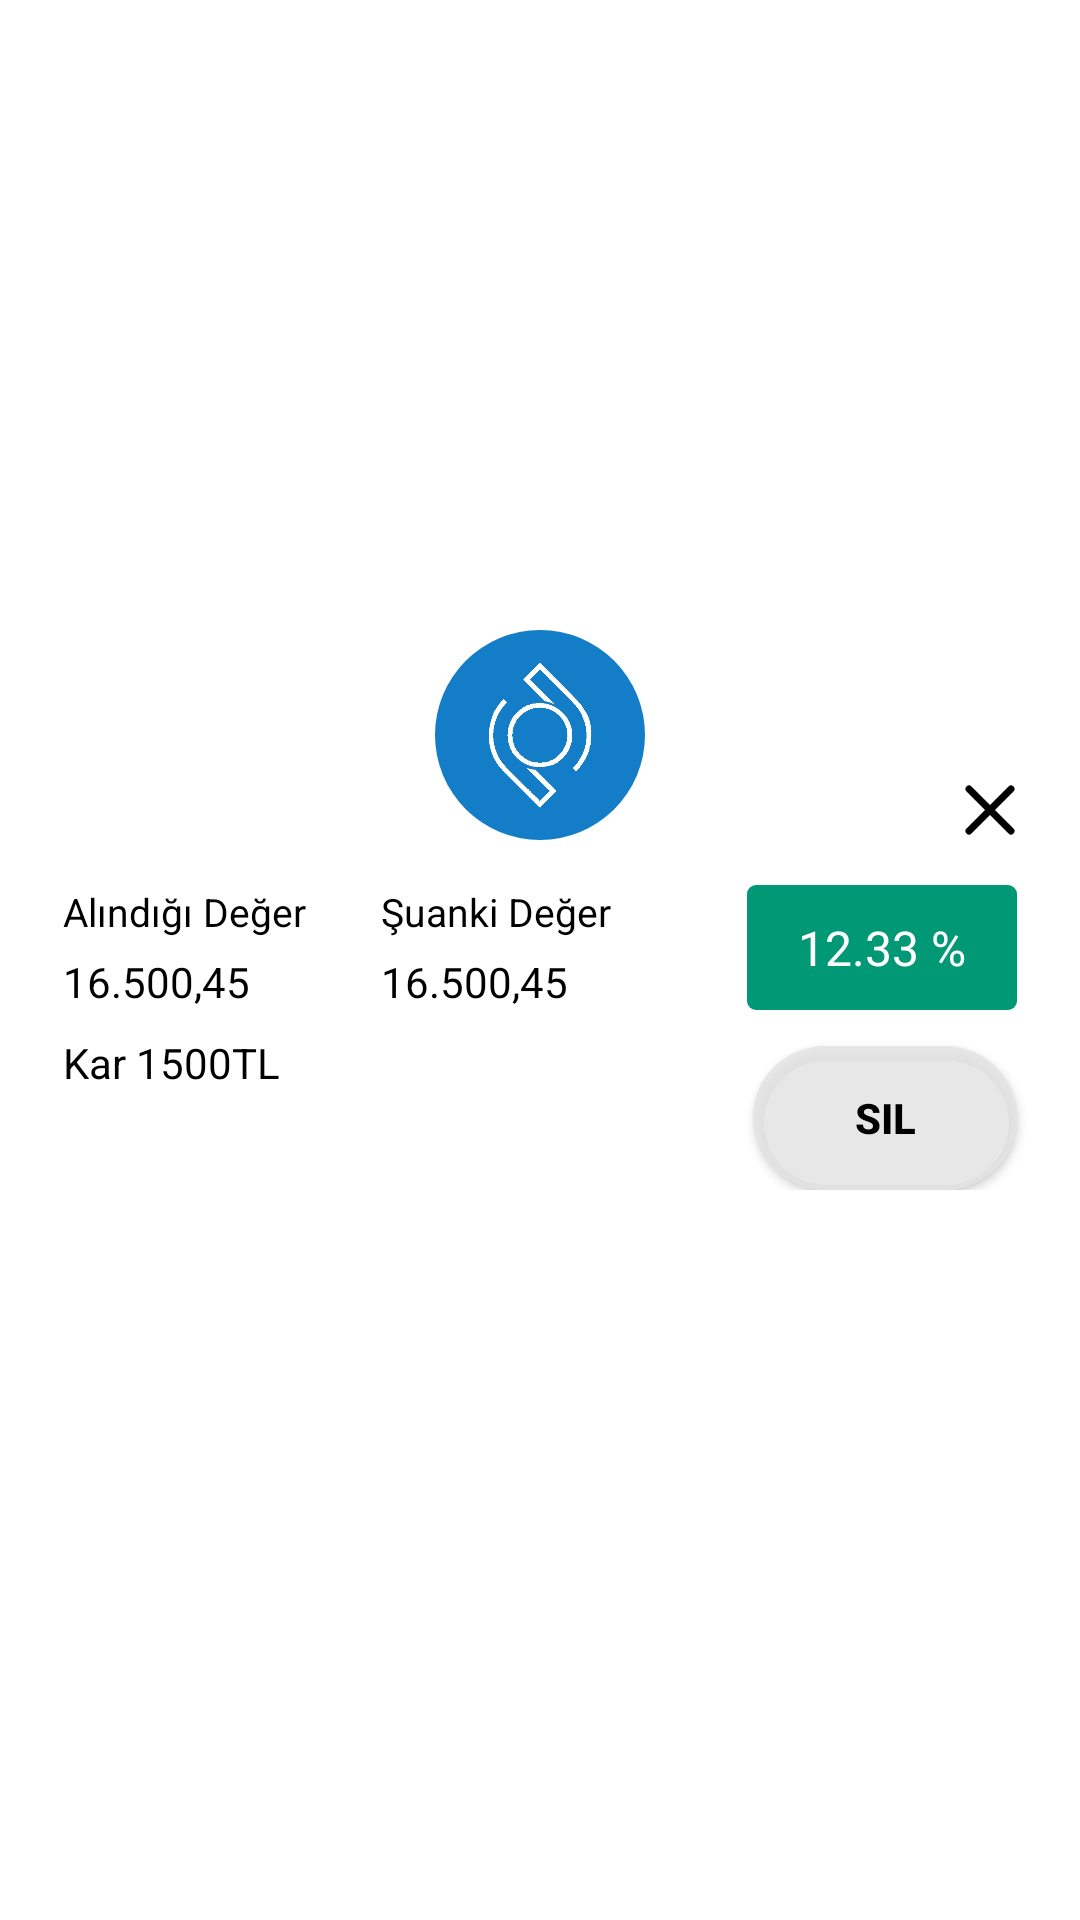

Point at icon controls on the screen. Image size 1080 × 1920, points as [x,y].
cancel: [990,810]
